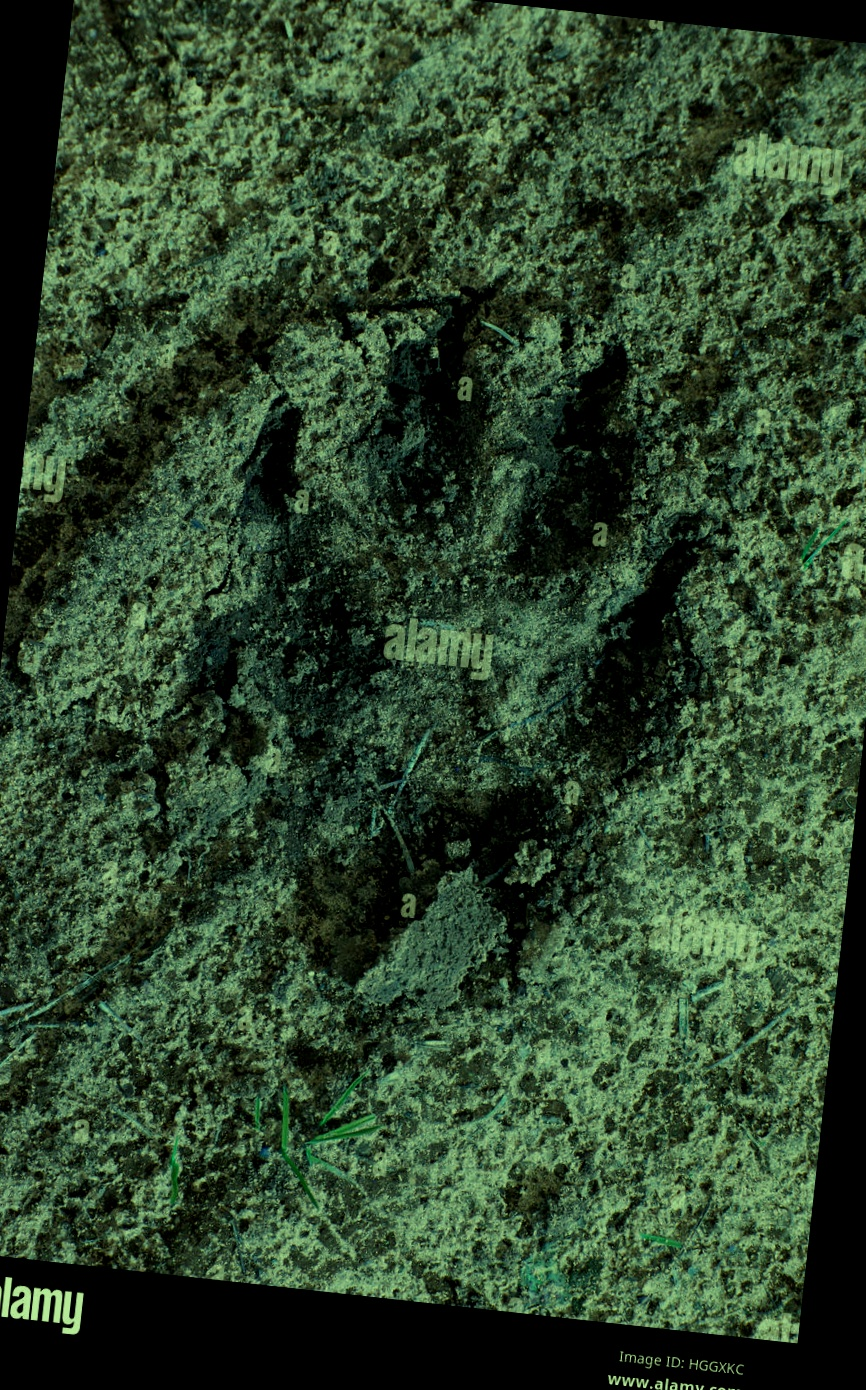loup: (107, 262, 722, 1090)
